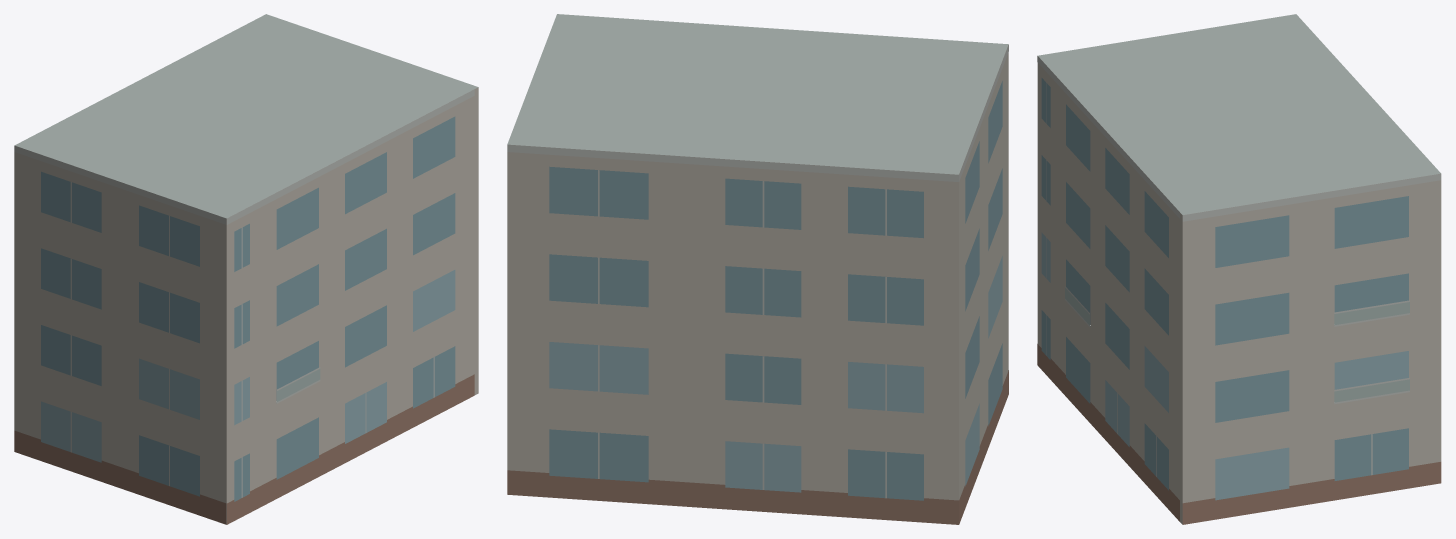
The model's file is survey-upis-33011307.glb.
3 views of the same model, side by side, from view 1: azimuth 30°, elevation 25°; view 2: azimuth 150°, elevation 25°; view 3: azimuth 270°, elevation 25° (orthographic). The views are drawn at different scales.
Visible parts, largest first — view 1: survey-upis-33011307.tmp; view 2: survey-upis-33011307.tmp; view 3: survey-upis-33011307.tmp.
Boxes of the visible parts, left/top/right/bottom form: survey-upis-33011307.tmp: left=14, top=14, right=478, bottom=524; survey-upis-33011307.tmp: left=507, top=14, right=1008, bottom=524; survey-upis-33011307.tmp: left=1037, top=14, right=1441, bottom=524.
Bounding box in the file's own units: 16.04 × 11.5 × 13.6.
